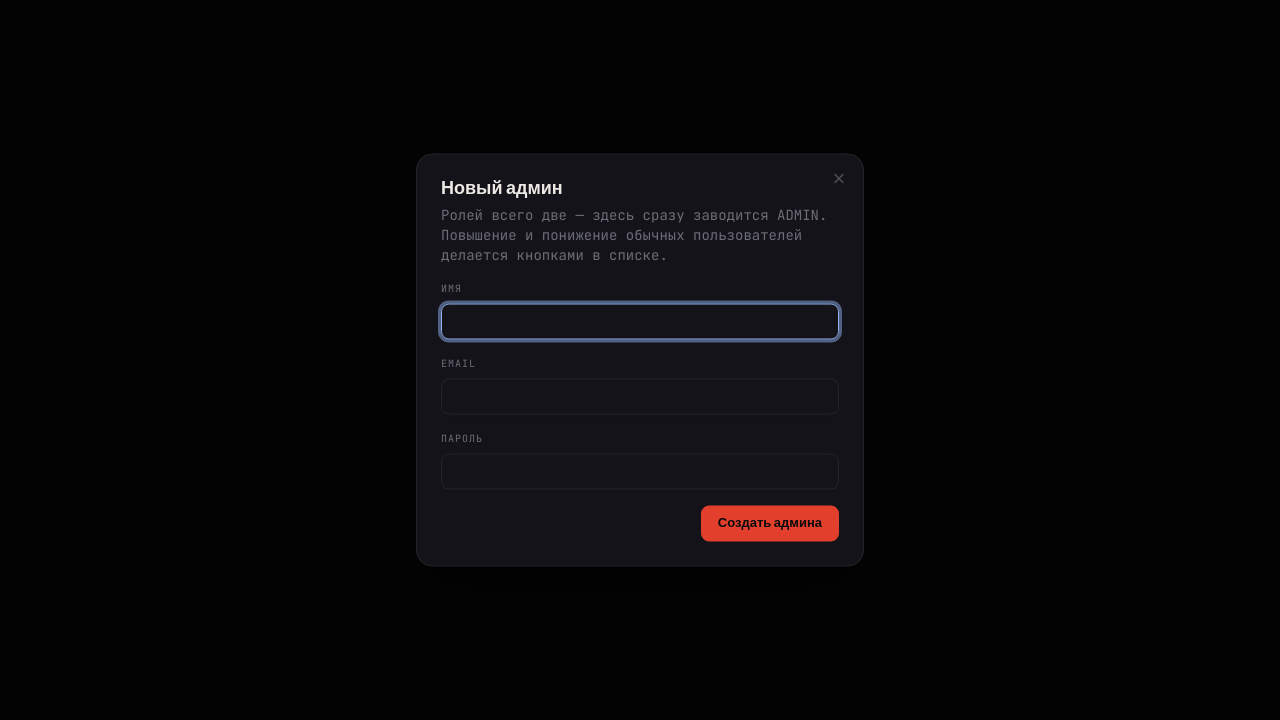
Test: CreateAdminDialog › renders inline field validation errors and does not submit (FR-15)
The image size is (1280, 720).
Click the button "Создать админа" at (770, 524), box [701,506,839,542]
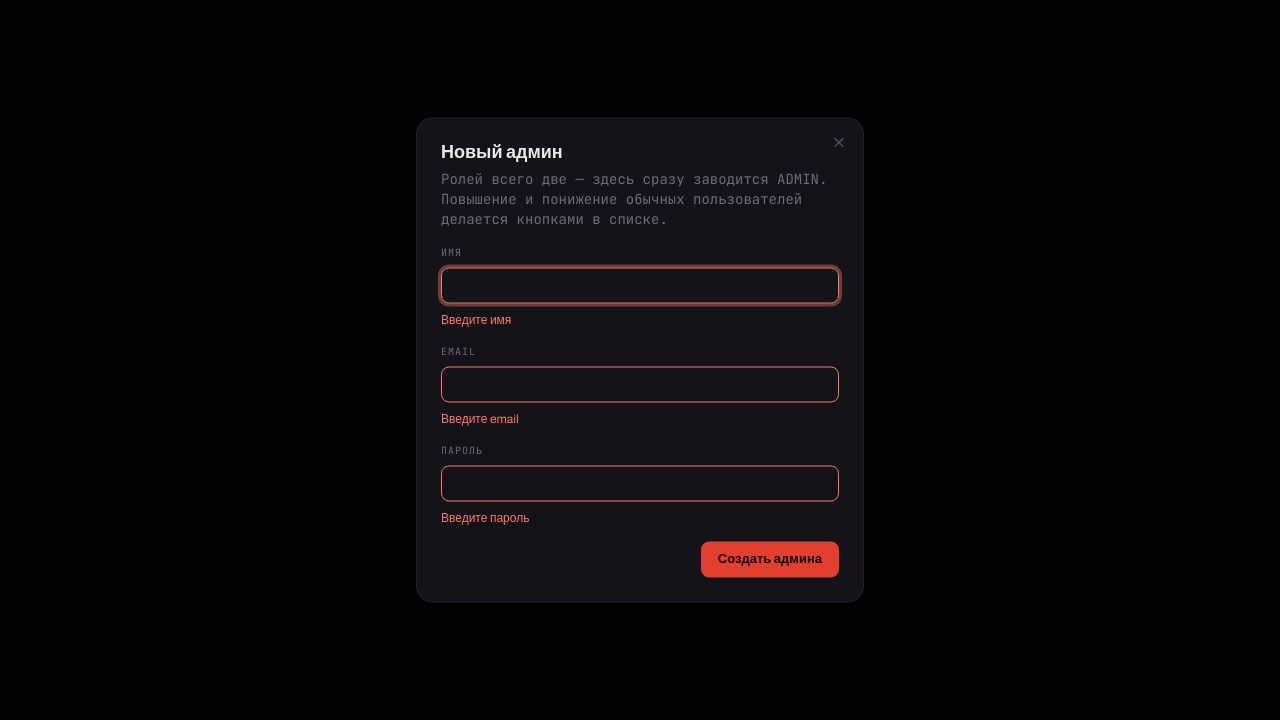
Result: the text "Введите имя" is shown at [441,312,511,326]
Result: the text "Введите email" is shown at [441,412,519,426]
Result: the text "Введите пароль" is shown at [441,510,529,524]
